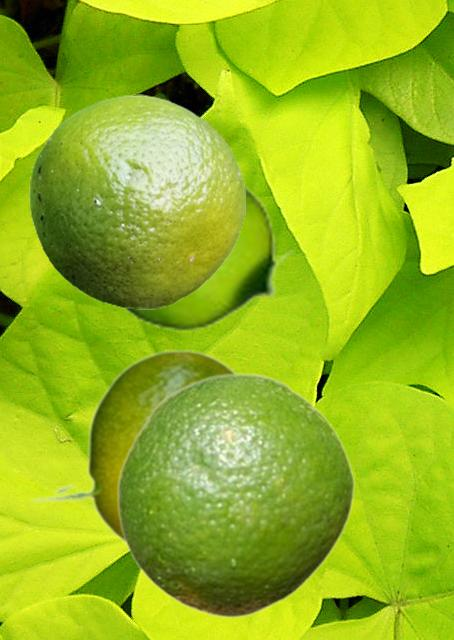calamansi: (116, 372, 354, 618), (29, 94, 244, 308), (28, 348, 236, 544), (116, 178, 296, 331)
